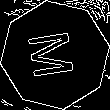M_E: (26, 28, 84, 82)
